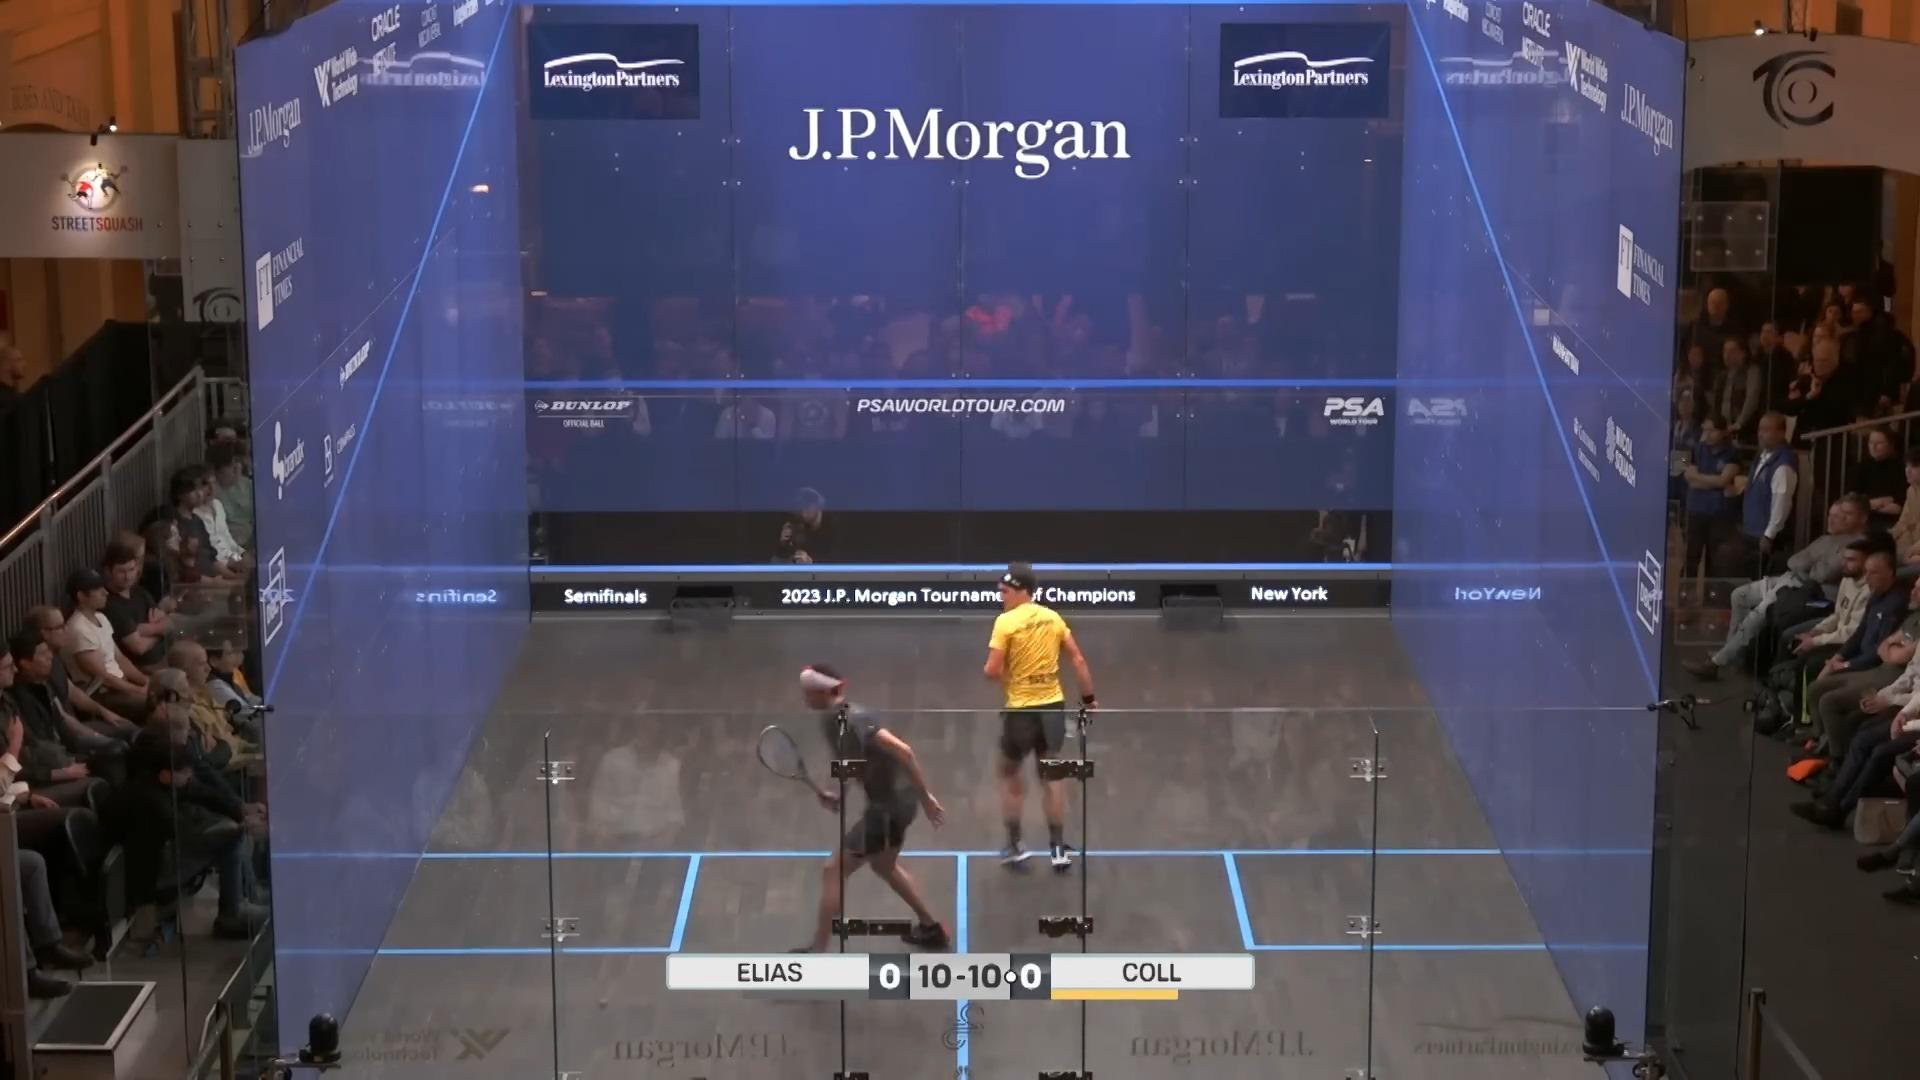Racket: (748, 712, 833, 789)
